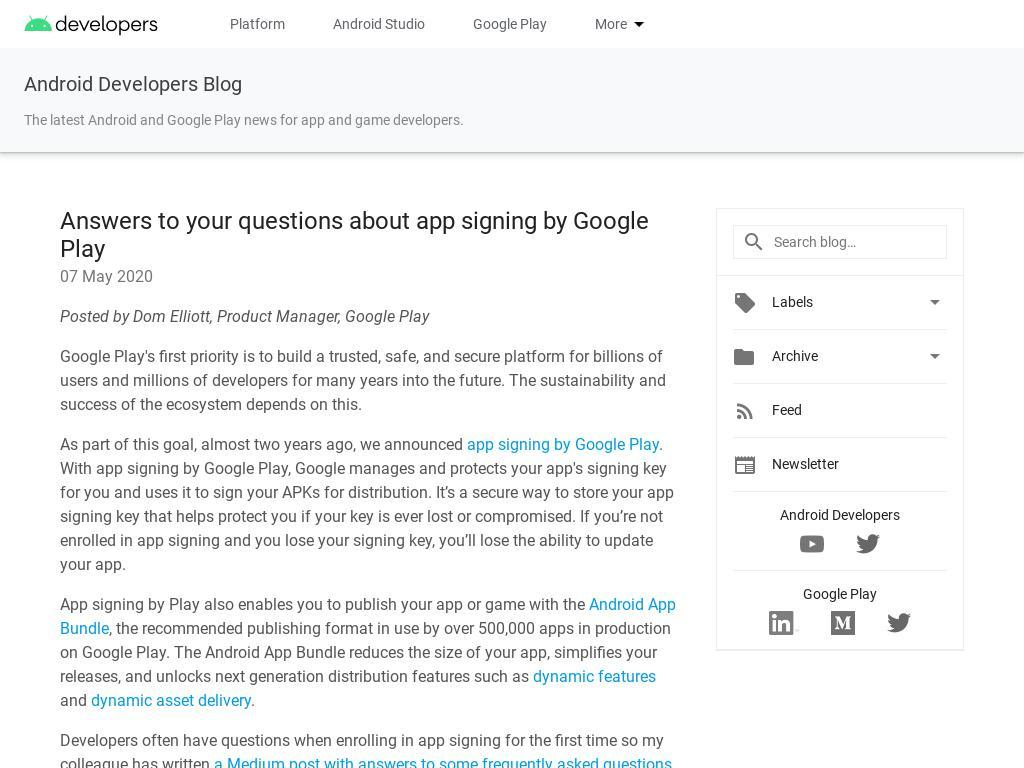button: (733, 451, 947, 477), (733, 398, 947, 423), (585, 0, 689, 26), (24, 16, 158, 32), (769, 611, 831, 635), (830, 611, 887, 635), (800, 532, 856, 556), (886, 611, 911, 635), (856, 532, 880, 556), (595, 16, 627, 32)
field: (733, 225, 947, 259)
heading: (60, 208, 649, 264), (772, 451, 839, 476), (772, 344, 818, 369), (772, 290, 813, 314), (772, 398, 802, 423)
image: (24, 8, 158, 40), (769, 610, 799, 635), (830, 610, 855, 635), (886, 610, 911, 635), (733, 291, 757, 316), (733, 398, 757, 423), (733, 452, 757, 477), (800, 531, 824, 556), (856, 531, 880, 556), (627, 12, 651, 36)
link: (60, 595, 676, 638), (24, 112, 464, 128), (214, 755, 672, 768), (24, 72, 242, 96), (467, 435, 659, 454), (91, 691, 251, 710), (533, 667, 656, 686), (333, 16, 425, 32), (473, 16, 547, 32), (230, 16, 285, 32)
text: (60, 435, 674, 574), (60, 345, 686, 417), (60, 619, 671, 686), (60, 731, 664, 768), (60, 595, 589, 614), (60, 755, 682, 768), (60, 435, 467, 454), (60, 307, 429, 326), (733, 505, 947, 533), (733, 584, 947, 612), (60, 267, 153, 286), (732, 345, 756, 370), (923, 344, 947, 369), (60, 691, 91, 710), (923, 290, 947, 314), (595, 0, 630, 10), (251, 691, 255, 710)
